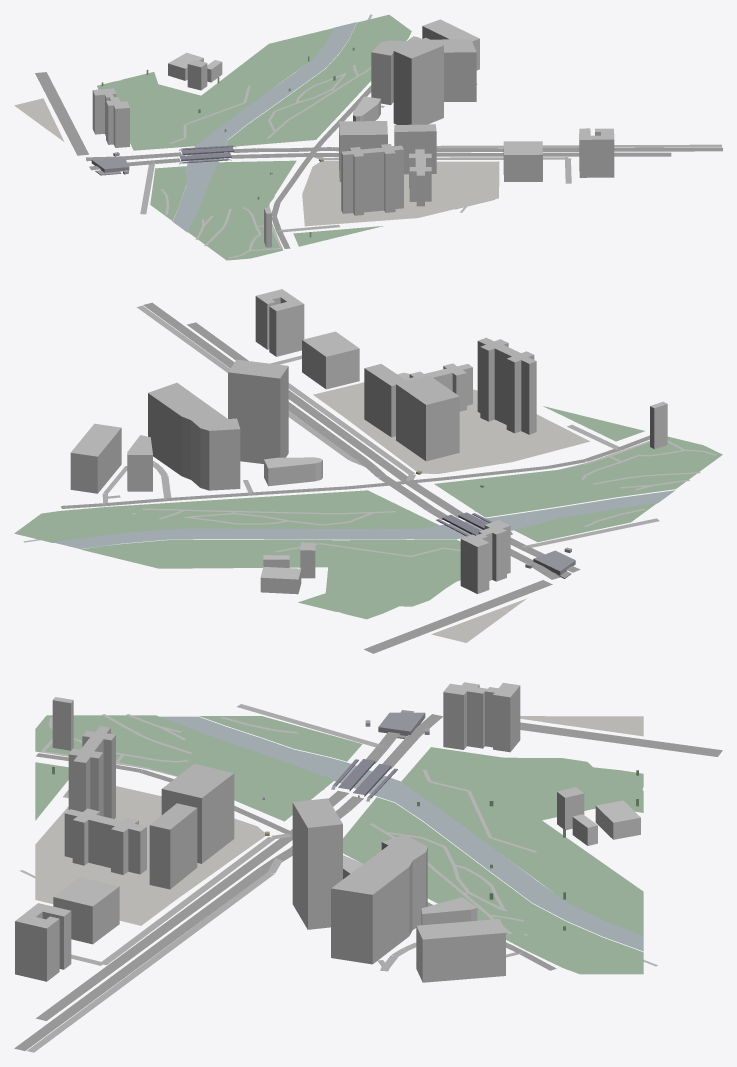
3 views of the same model, one above another, from view 1: azimuth 30°, elevation 25°; view 2: azimuth 150°, elevation 25°; view 3: azimuth 270°, elevation 25° (orthographic). The views are drawn at different scales.
Size of the model in its own units: 677 by 99.8 by 583.
